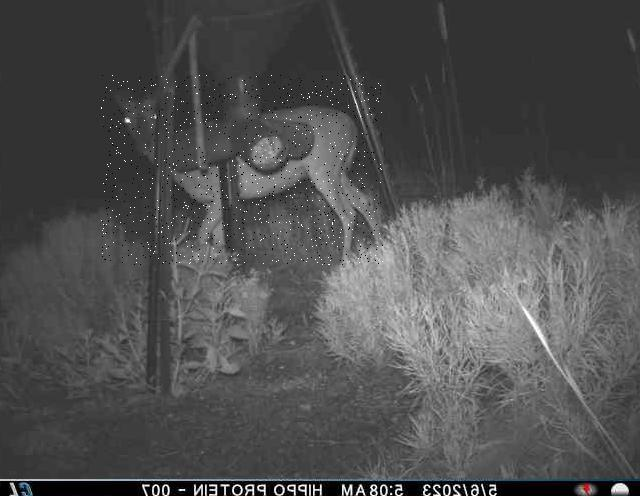Deer: (100, 75, 382, 265)
